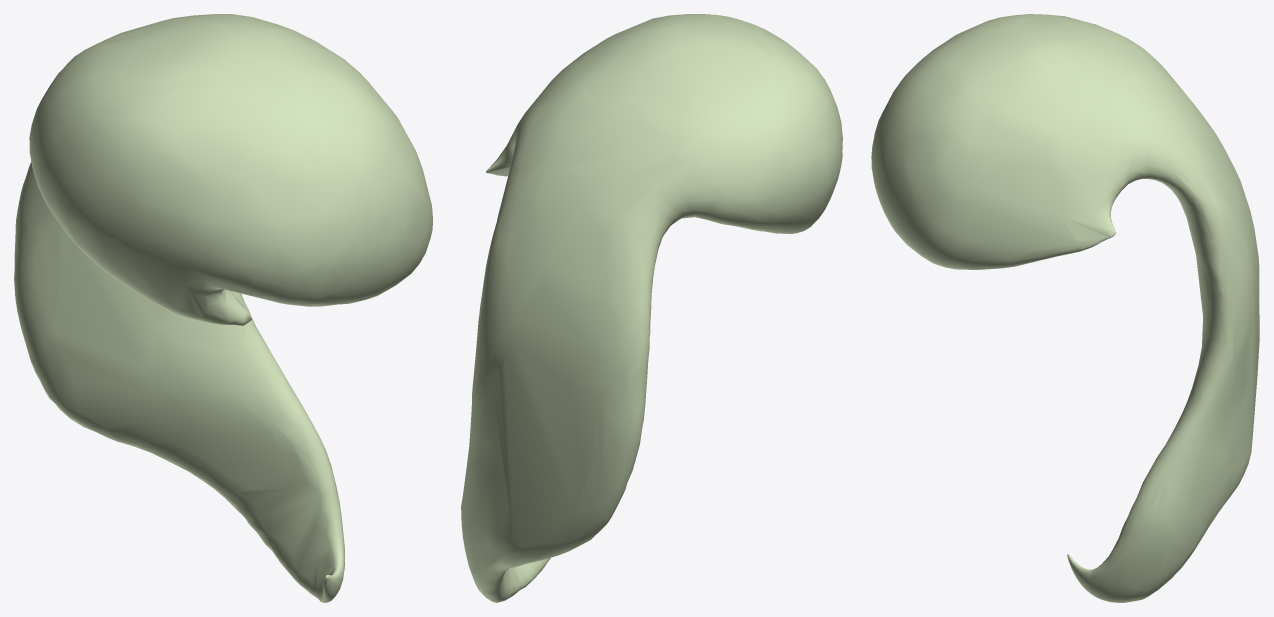
The model's file is Mane_14.fbx.
3 views of the same model, side by side, from view 1: azimuth 30°, elevation 25°; view 2: azimuth 150°, elevation 25°; view 3: azimuth 270°, elevation 25° (orthographic). The views are drawn at different scales.
Visible parts, largest first — view 1: Mane_14; view 2: Mane_14; view 3: Mane_14.
Boxes of the visible parts, x1=… form: Mane_14: x1=14, y1=14, x2=432, y2=602; Mane_14: x1=461, y1=14, x2=842, y2=602; Mane_14: x1=871, y1=14, x2=1259, y2=602.
Bounding box in the file's own units: 1.39 × 2.46 × 1.71.
